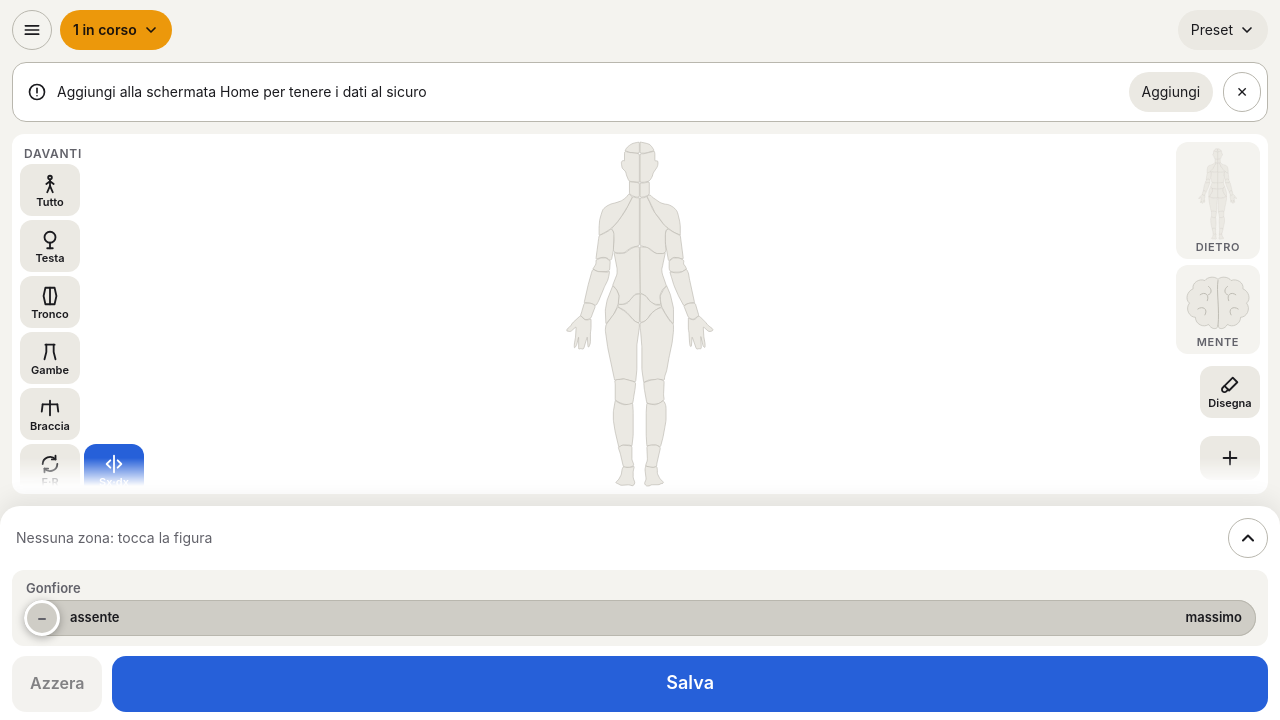
Test case: No special symptom (#36) › the episode sheet offers only what the episode has read, pain off
Click the button "1 in corso" at (116, 30), box top-left (60, 10), bottom-right (172, 50)
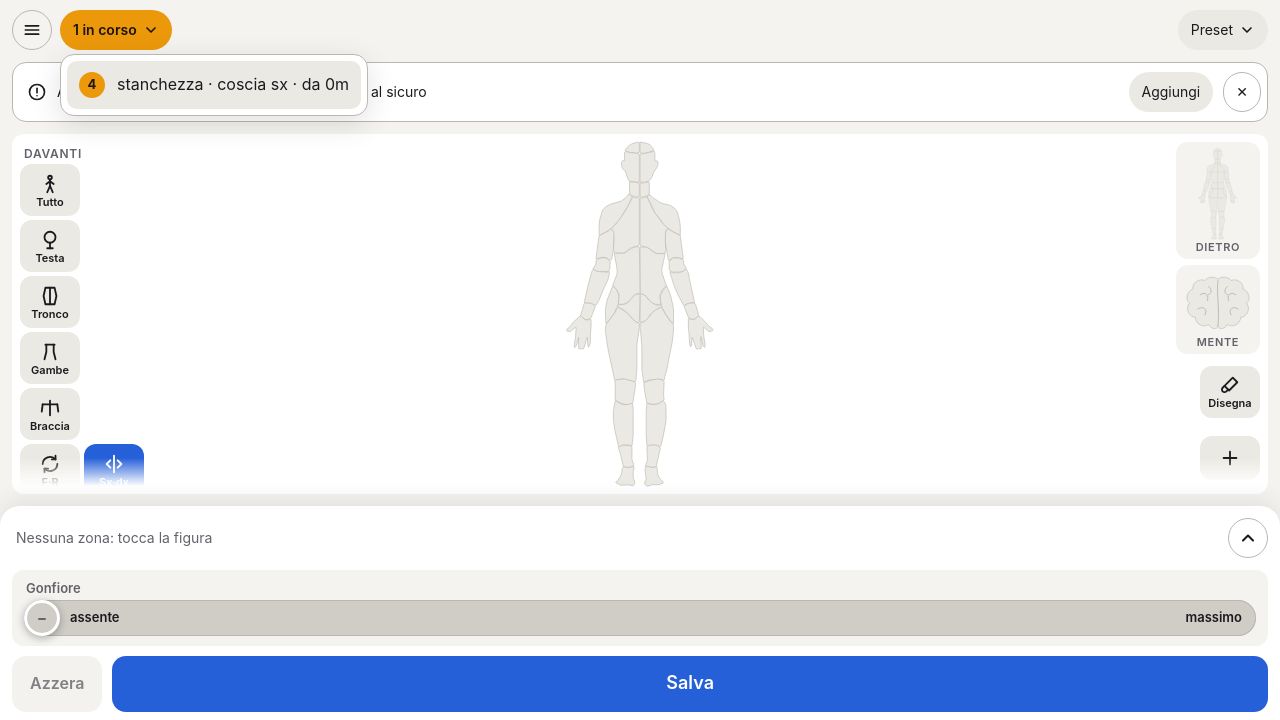
Click the menu item "4 stanchezza · coscia sx · da 0m" at (214, 85), box top-left (67, 61), bottom-right (361, 109)
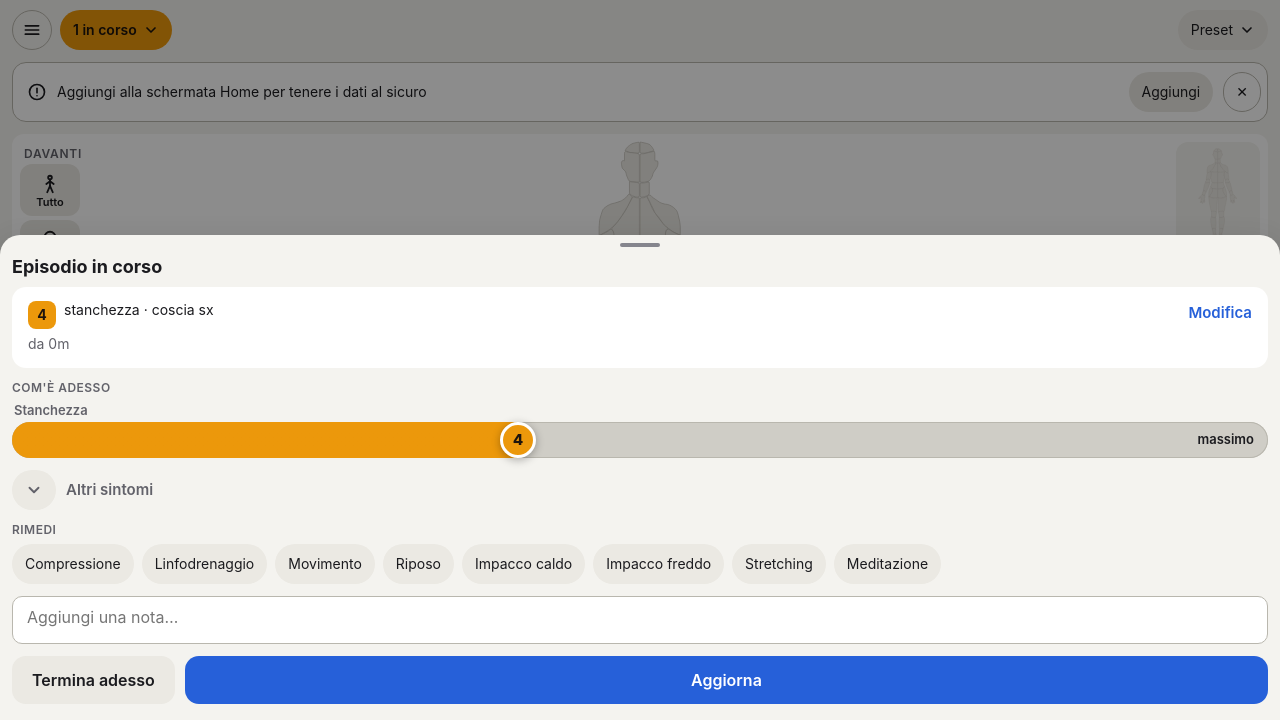
Check: the slider named "Stanchezza" holds "4", box top-left (12, 422), bottom-right (1268, 458)
